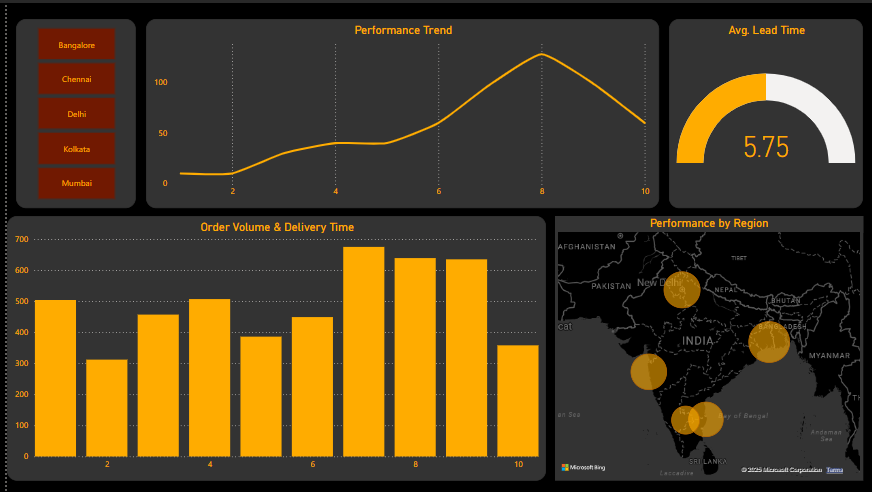

This screenshot's page, from the dashboard's own definition file:
{"tool":"powerbi","page":{"name":"Order Fulfillment","canvas":[1280,720],"ordinal":2},"visuals":[{"type":"lineChart","title":"Performance Trend","fields":{"Category":["Cleaned_Data.Shipping times"],"Y":["Sum(Cleaned_Data.Shipping times)"]},"box":[204.2,23.5,753.8,277.7],"z":0},{"type":"clusteredColumnChart","title":"Order Volume & Delivery Time","fields":{"Y":["Sum(Cleaned_Data.Order quantities)"],"Category":["Cleaned_Data.Shipping times"]},"box":[13.2,313,778.8,389.4],"z":1000},{"type":"gauge","title":"Avg. Lead Time","fields":{"Y":["Avg(Cleaned_Data.Shipping times)"]},"box":[972.7,23.5,285.1,277.7],"z":2000},{"type":"map","title":"Performance by Region","fields":{"Category":["Cleaned_Data.Location"],"Size":["Sum(Cleaned_Data.Number of products sold)"]},"box":[805.2,313,452.6,389.4],"z":3000},{"type":"slicer","fields":{"Values":["Cleaned_Data.Location"]},"box":[13.2,23.5,176.3,277.7],"z":4000}]}

Visuals, with their boxes in screenshot pixels (x1, y1, x2, y2), scaled from the page's 1280x720 canvas onto the 872x492 screenshot:
"Performance Trend" lineChart: (139,16,653,206)
"Order Volume & Delivery Time" clusteredColumnChart: (9,214,540,480)
"Avg. Lead Time" gauge: (663,16,857,206)
"Performance by Region" map: (549,214,857,480)
slicer - Cleaned_Data.Location: (9,16,129,206)
